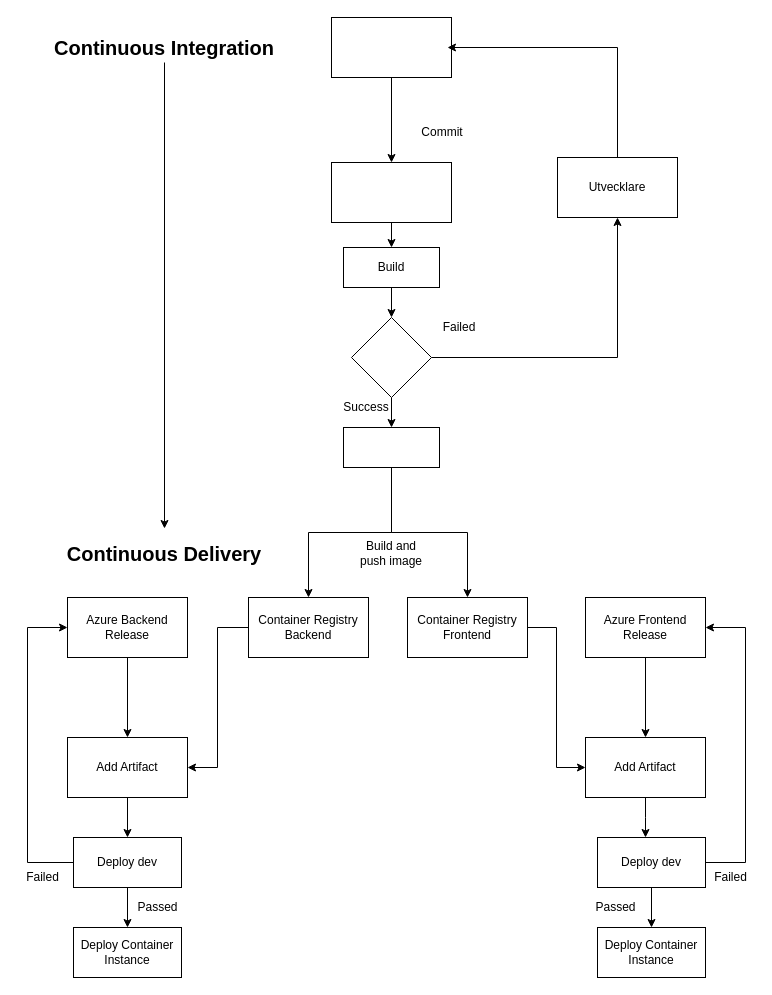
This 772x995 diagram has some shape labels left out. Each missing label, with the box of its shape:
Azure Pipeline: (330, 162, 452, 222)
Docker: (342, 426, 440, 468)
Git Repository: (330, 16, 452, 78)
Test: (350, 316, 432, 398)
